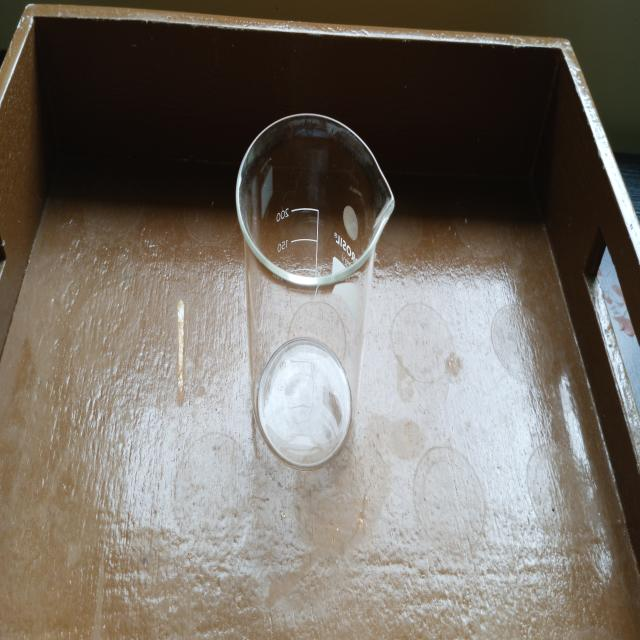beaker: (231, 105, 399, 477)
